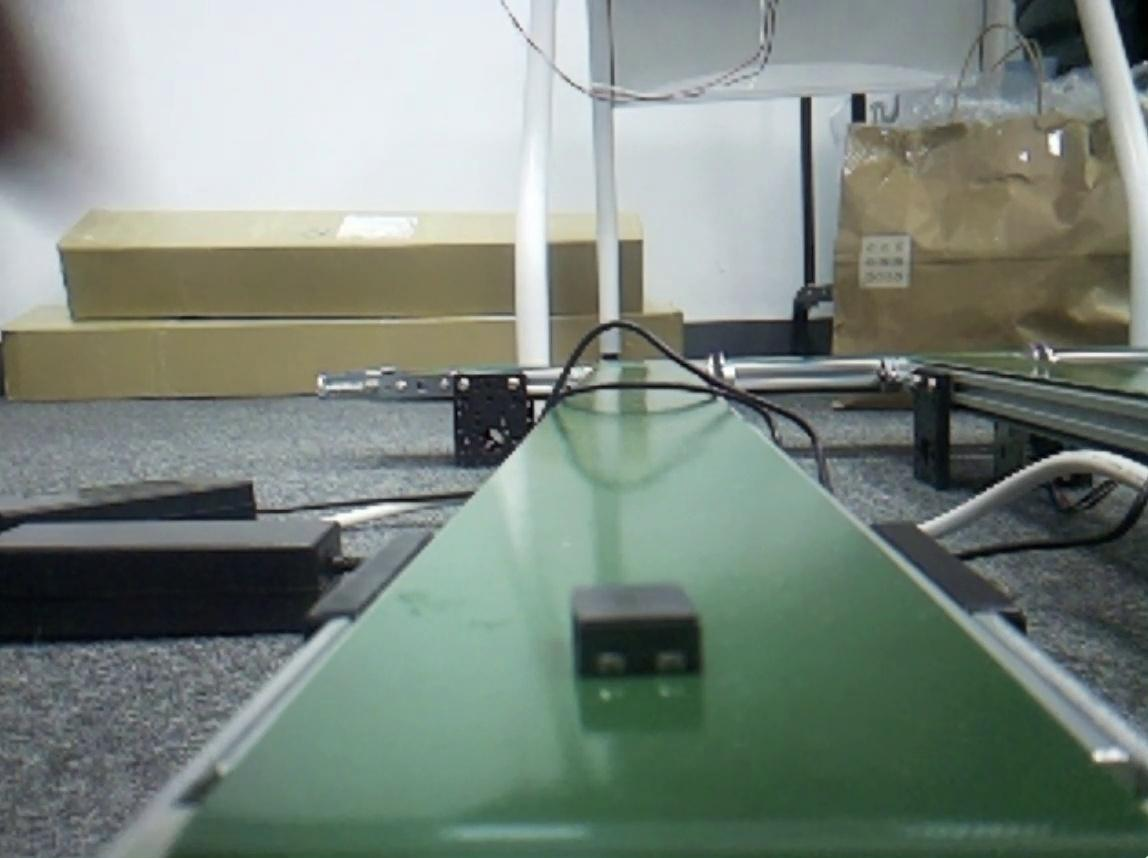inductor: (573, 588, 700, 684)
